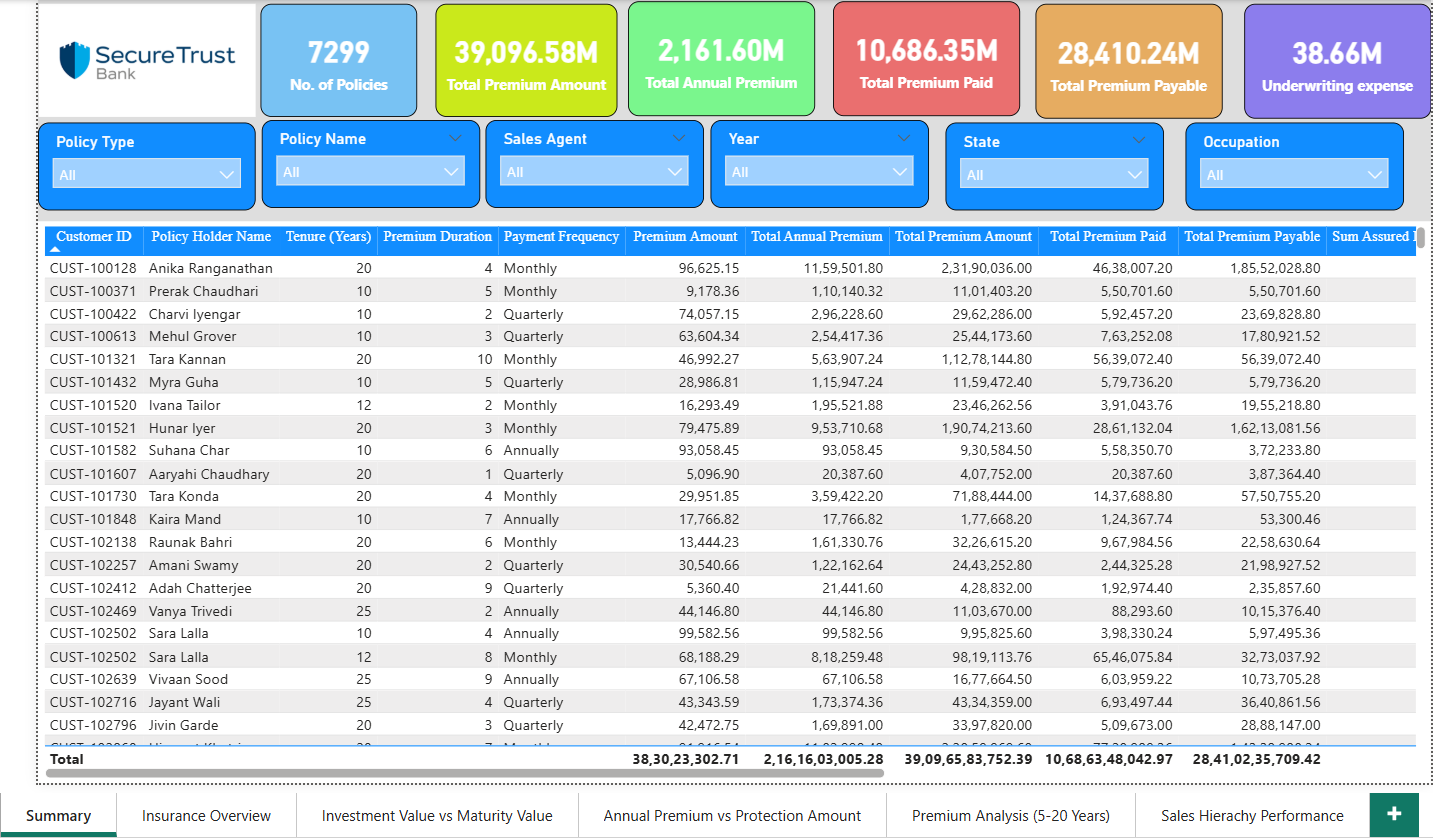

The dashboard page shown, as its layout file describes it:
{"tool":"powerbi","page":{"name":"Summary","canvas":[1280,720],"ordinal":0},"visuals":[{"type":"card","fields":{"Values":["CountNonNull(DM Customer_Detail_Table.Customer ID)"]},"box":[204.9,2.9,144.3,103.9],"z":0},{"type":"card","fields":{"Values":["Sum(FCT Insurance_Policy_Table.Total Annual Premium)"]},"box":[542.5,1.4,171.7,105.3],"z":1000},{"type":"card","fields":{"Values":["Sum(FCT Insurance_Policy_Table.Total Premium Amount)"]},"box":[365,2.9,167.4,103.9],"z":2000},{"type":"card","fields":{"Values":["Sum(FCT Insurance_Policy_Table.Total Premium Paid)"]},"box":[730,1.4,171.7,105.3],"z":3000},{"type":"card","fields":{"Values":["Sum(FCT Insurance_Policy_Table.Total Premium Payable)"]},"box":[916.2,2.9,171.7,105.3],"z":4000},{"type":"card","fields":{"Values":["FCT Insurance_Policy_Table.Underwriting expense"]},"box":[1108,2.9,171.7,105.3],"z":5000},{"type":"tableEx","fields":{"Values":["DM Customer_Detail_Table.Customer ID","DM Customer_Detail_Table.Policy Holder Name","FCT Insurance_Policy_Table.Tenure (Years)","FCT Insurance_Policy_Table.Premium Payment Duration","FCT Insurance_Policy_Table.Payment Frequency","Sum(FCT Insurance_Policy_Table.Premium Amount)","Sum(FCT Insurance_Policy_Table.Total Annual Premium)","Sum(FCT Insurance_Policy_Table.Total Premium Amount)","Sum(FCT Insurance_Policy_Table.Total Premium Paid)","Sum(FCT Insurance_Policy_Table.Total Premium Payable)","Sum(FCT Insurance_Policy_Table.Sum Assured INR/Coverage Amount)","Sum(FCT Insurance_Policy_Table.Maturity Amount)"]},"box":[0,203.3,1280,516.7],"z":6000},{"type":"slicer","fields":{"Values":["DM Policy_Type.Policy Type"]},"box":[0.2,112.1,200,80.8],"z":7000},{"type":"slicer","fields":{"Values":["DM Policy_Protection_Plan.Policy Name"]},"box":[205.1,110.6,200.5,80.8],"z":8000},{"type":"slicer","fields":{"Values":["DM Insurance_Agent_Table.Sales Agent"]},"box":[411.4,110.6,200.5,80.8],"z":9000},{"type":"slicer","fields":{"Values":["FCT Insurance_Policy_Table.Year"]},"box":[617.7,110.6,200.5,80.8],"z":10000},{"type":"slicer","fields":{"Values":["DM Customer_Detail_Table.State"]},"box":[834.1,112.1,200.5,80.8],"z":11000},{"type":"slicer","fields":{"Values":["DM Customer_Detail_Table.Occupation"]},"box":[1054.8,112.1,200.5,80.8],"z":12000},{"type":"image","box":[0,2.9,200.5,103.9],"z":13000}]}

Visuals, with their boxes on the page's 1280x720 design canvas (x1, y1, x2, y2). These are canvas units, not pixel positions in the 1433x838 screenshot, which may show the page scaled, cropped or inside an application window:
card - CountNonNull(DM Customer_Detail_Table.Customer ID): box=[205, 3, 349, 107]
card - Sum(FCT Insurance_Policy_Table.Total Annual Premium): box=[542, 1, 714, 107]
card - Sum(FCT Insurance_Policy_Table.Total Premium Amount): box=[365, 3, 532, 107]
card - Sum(FCT Insurance_Policy_Table.Total Premium Paid): box=[730, 1, 902, 107]
card - Sum(FCT Insurance_Policy_Table.Total Premium Payable): box=[916, 3, 1088, 108]
card - FCT Insurance_Policy_Table.Underwriting expense: box=[1108, 3, 1280, 108]
tableEx - DM Customer_Detail_Table.Customer ID x DM Customer_Detail_Table.Policy Holder Name: box=[0, 203, 1280, 720]
slicer - DM Policy_Type.Policy Type: box=[0, 112, 200, 193]
slicer - DM Policy_Protection_Plan.Policy Name: box=[205, 111, 406, 191]
slicer - DM Insurance_Agent_Table.Sales Agent: box=[411, 111, 612, 191]
slicer - FCT Insurance_Policy_Table.Year: box=[618, 111, 818, 191]
slicer - DM Customer_Detail_Table.State: box=[834, 112, 1035, 193]
slicer - DM Customer_Detail_Table.Occupation: box=[1055, 112, 1255, 193]
image: box=[0, 3, 200, 107]
